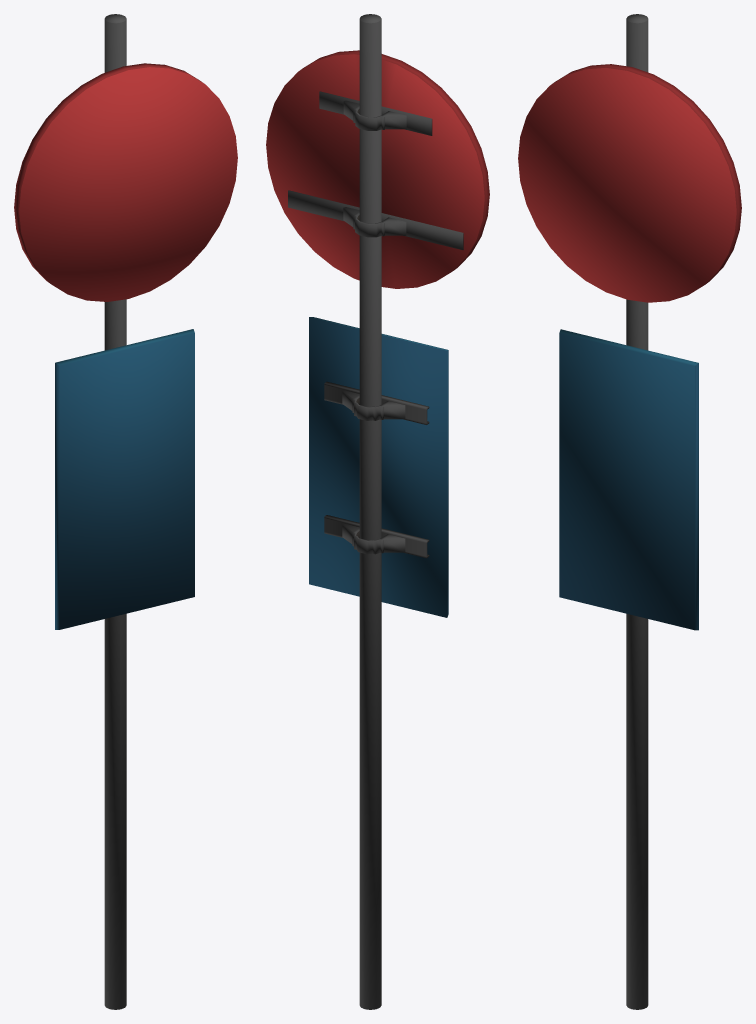
The model's file is furnishings-signs-roadsign_v2.glb.
3 renders of one model, left to right at view 1: azimuth 30°, elevation 25°; view 2: azimuth 150°, elevation 25°; view 3: azimuth 330°, elevation 25°, orthographic.
Parts seen in each view (by area): view 1: Roadsign_v2; view 2: Roadsign_v2; view 3: Roadsign_v2.
Part boxes in pixels (x1=…): Roadsign_v2: x1=14, y1=14, x2=237, y2=1009; Roadsign_v2: x1=266, y1=14, x2=489, y2=1009; Roadsign_v2: x1=518, y1=14, x2=741, y2=1009.
Size of the model in its own units: 0.603 by 2.6 by 0.0867.
